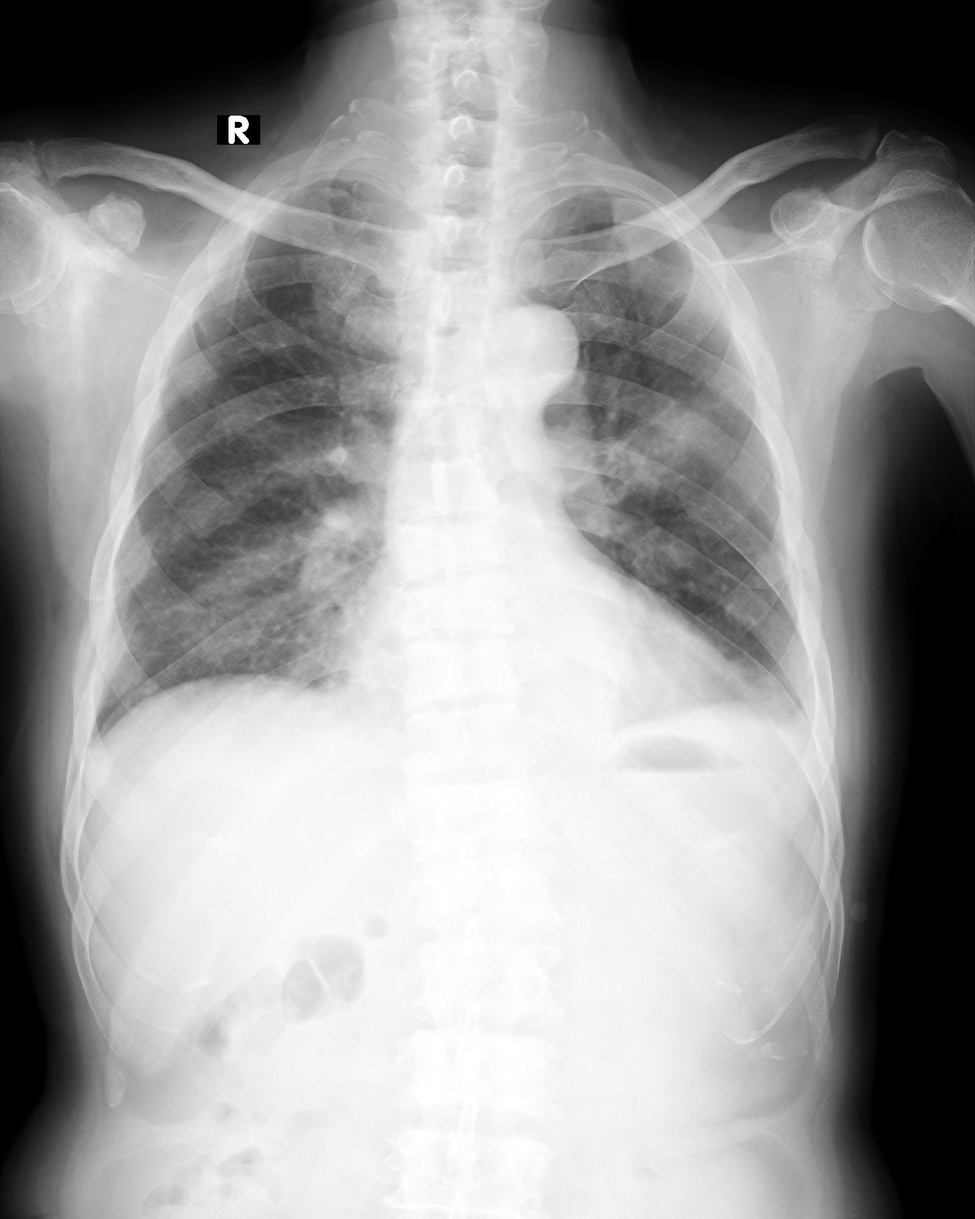Aortic enlargement: (478, 303, 583, 398)
Cardiomegaly: (341, 597, 747, 746)
Pleural thickening: (507, 179, 647, 238), (781, 692, 841, 769), (277, 166, 395, 199)
